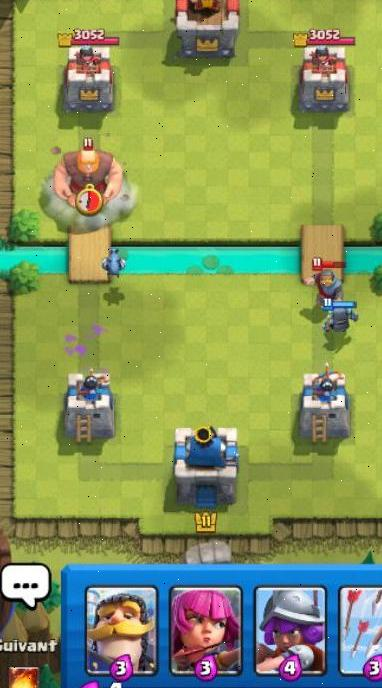enemy_giant: (48, 137, 126, 210)
enemy_knight: (302, 255, 350, 302)
player_mini_pekka: (317, 295, 365, 335)
player_minions: (97, 245, 130, 279)
